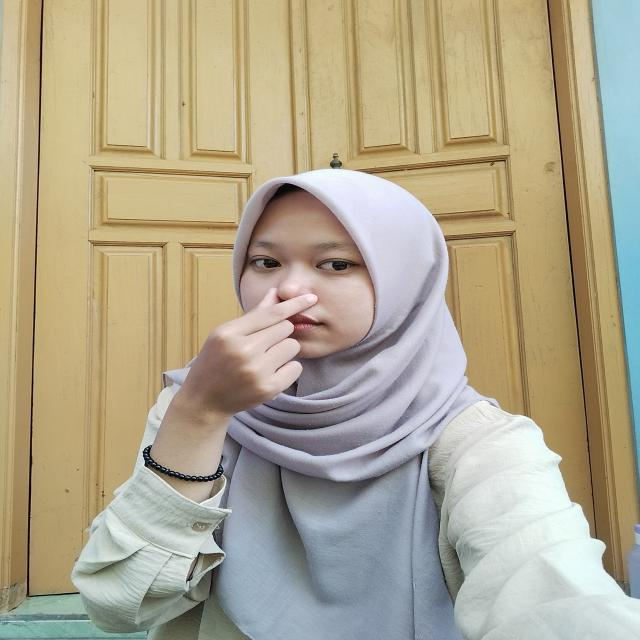bau: (174, 276, 308, 422)
